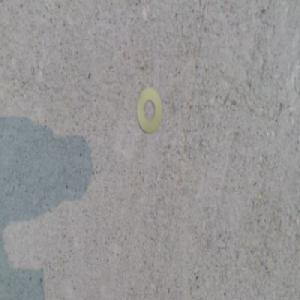Washer: (134, 90, 161, 140)
